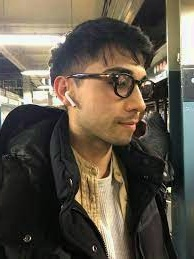earphone: (53, 76, 78, 108)
